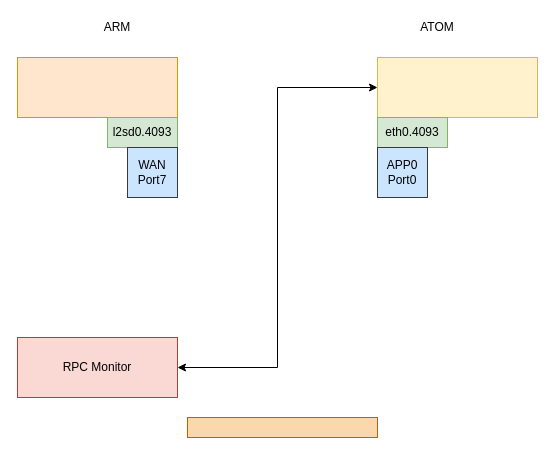
Image size: 555x455. Some labels were removed from this diagram. The centre of each missing label's shape, as x and y in pixels:
"Maximum Retry time is 20" goes at (282,427).
"RPC Client rpc_reverse_server" goes at (97,87).
"RPC Server rpc_wlan_config_server" goes at (457,87).
